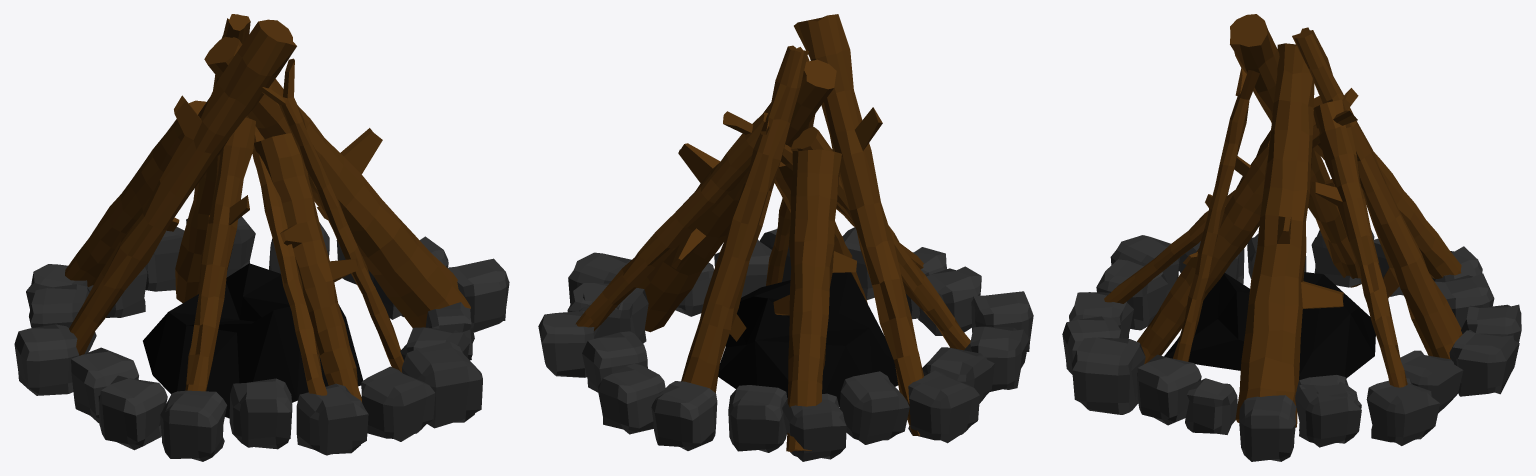
File: campfire.fbx
The picture shows the model from 3 angles, left to right: view 1: azimuth 30°, elevation 25°; view 2: azimuth 150°, elevation 25°; view 3: azimuth 270°, elevation 25°; orthographic projection. The views are drawn at different scales.
Parts seen in each view (by area): view 1: FirePit; view 2: FirePit; view 3: FirePit.
Boxes of the visible parts, box(x1,y1,x2,y2) form: FirePit: box(14, 14, 509, 461); FirePit: box(538, 14, 1033, 461); FirePit: box(1062, 14, 1521, 461).
Bounding box in the file's own units: 7342 × 5853 × 6956.
